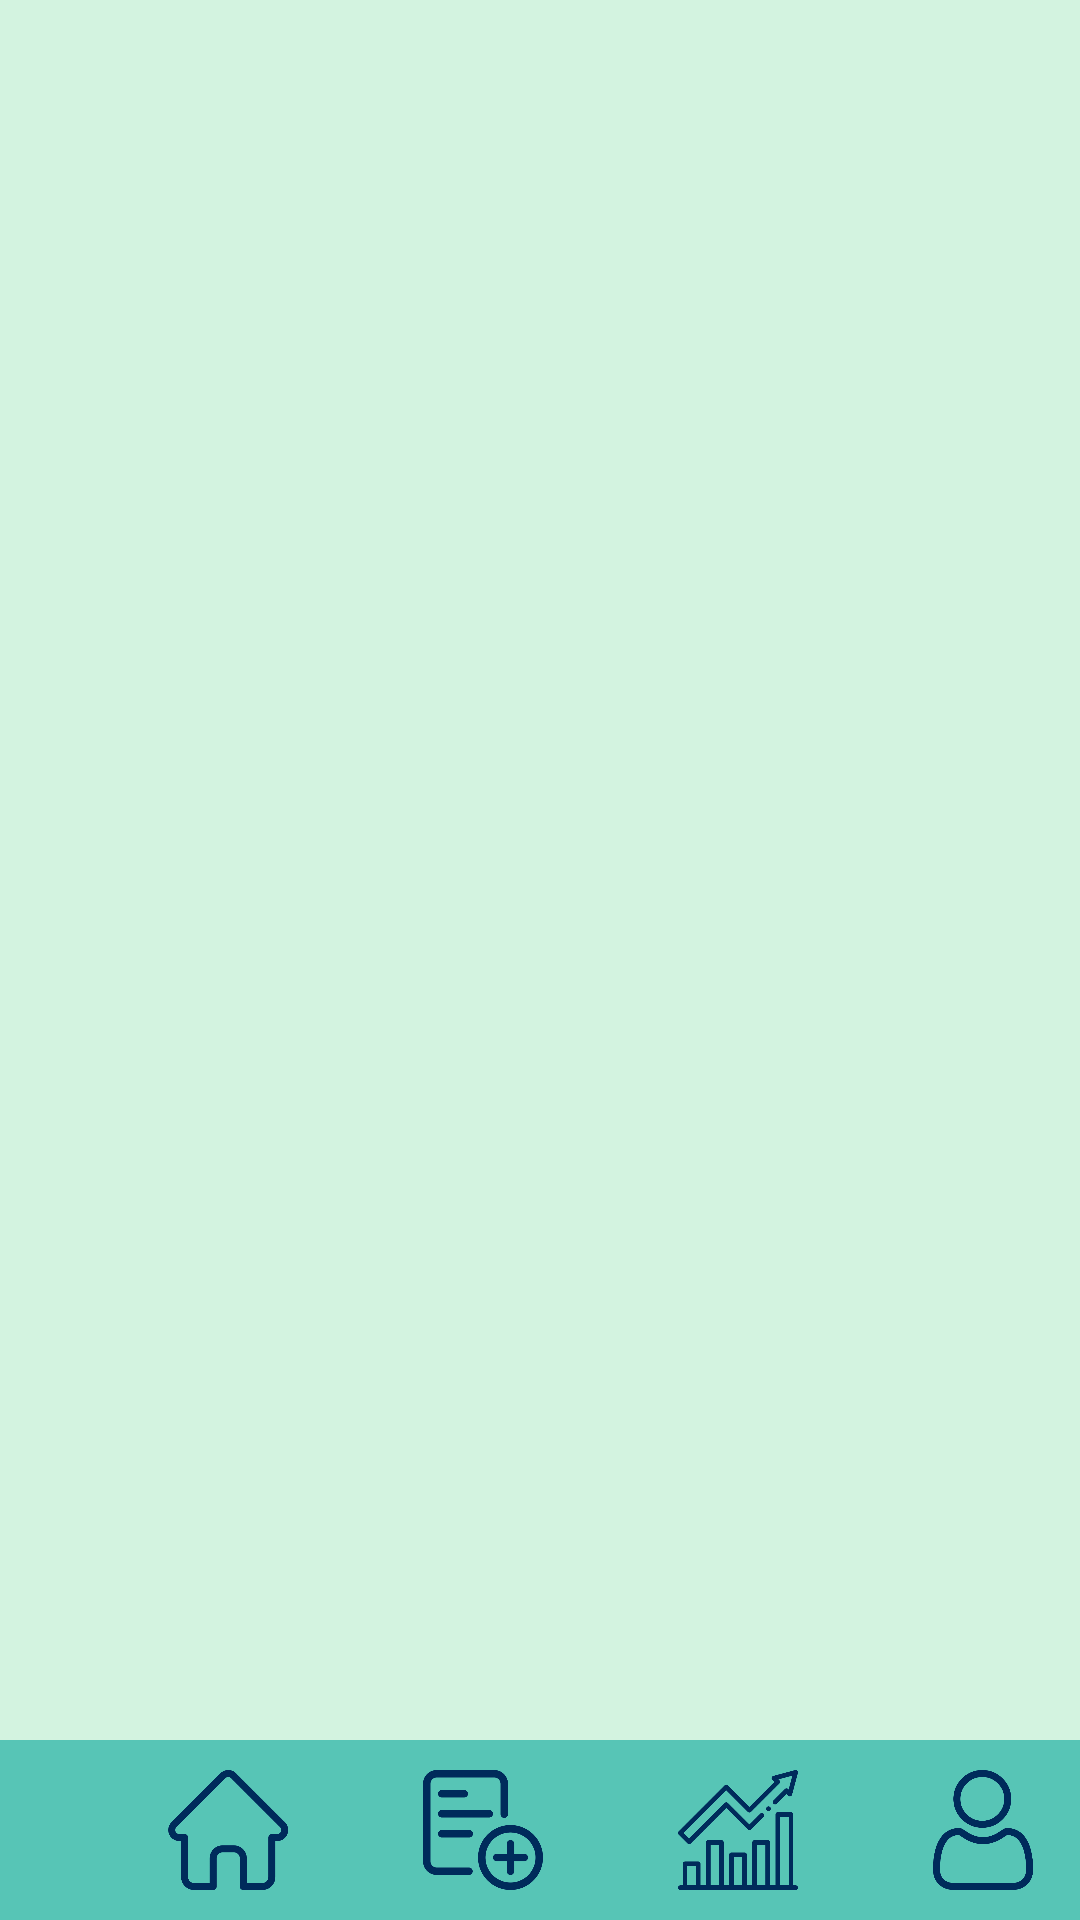

Icons on this 1080*1920 Android screen, each with its box as (x1, y1, x2, y2):
add: (423, 1770, 543, 1890)
home: (168, 1770, 288, 1890)
progress: (678, 1770, 798, 1890)
user: (933, 1770, 1033, 1890)
